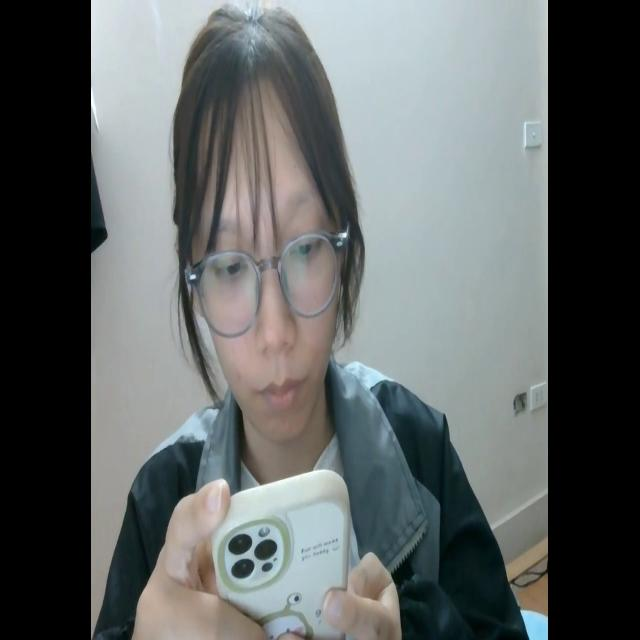phone: (208, 464, 355, 640)
student: (98, 2, 528, 640)
